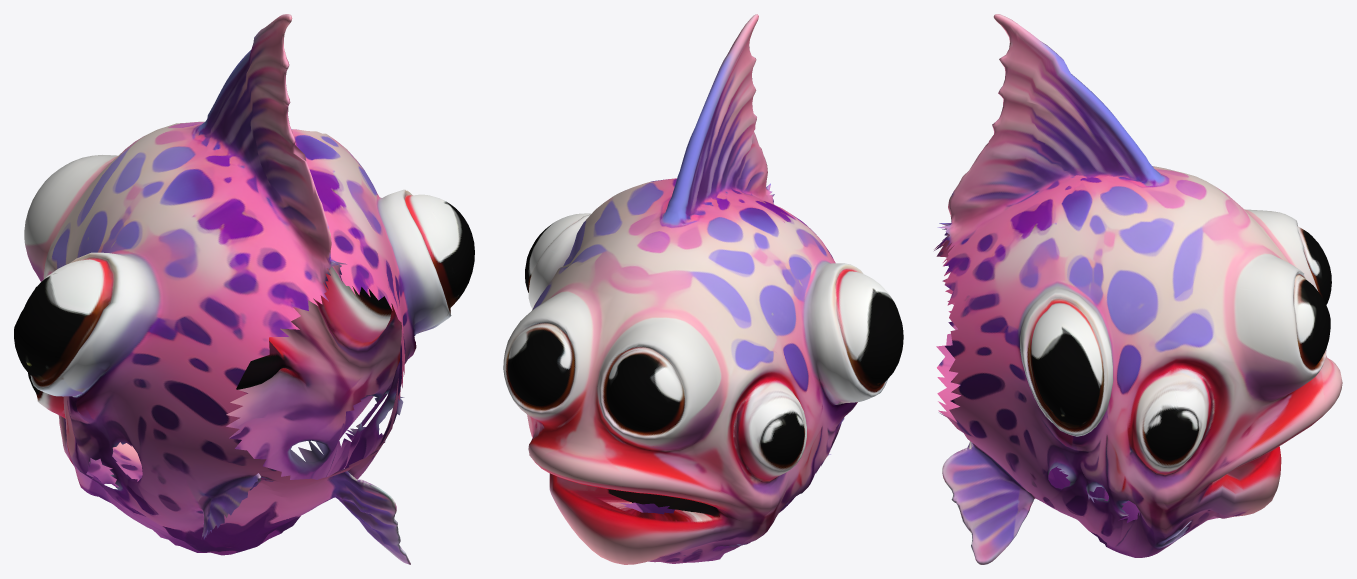
The model's file is Cuerpo.obj.
The picture shows the model from 3 angles, left to right: view 1: azimuth 30°, elevation 25°; view 2: azimuth 150°, elevation 25°; view 3: azimuth 270°, elevation 25°; orthographic projection. The views are drawn at different scales.
Visible parts, largest first — view 1: Cuerpo; view 2: Cuerpo; view 3: Cuerpo.
Boxes of the visible parts, box(x1,y1,x2,y2) form: Cuerpo: box(14, 14, 474, 564); Cuerpo: box(503, 14, 903, 564); Cuerpo: box(934, 14, 1342, 564).
Bounding box in the file's own units: 57.36 × 71.67 × 51.57.
